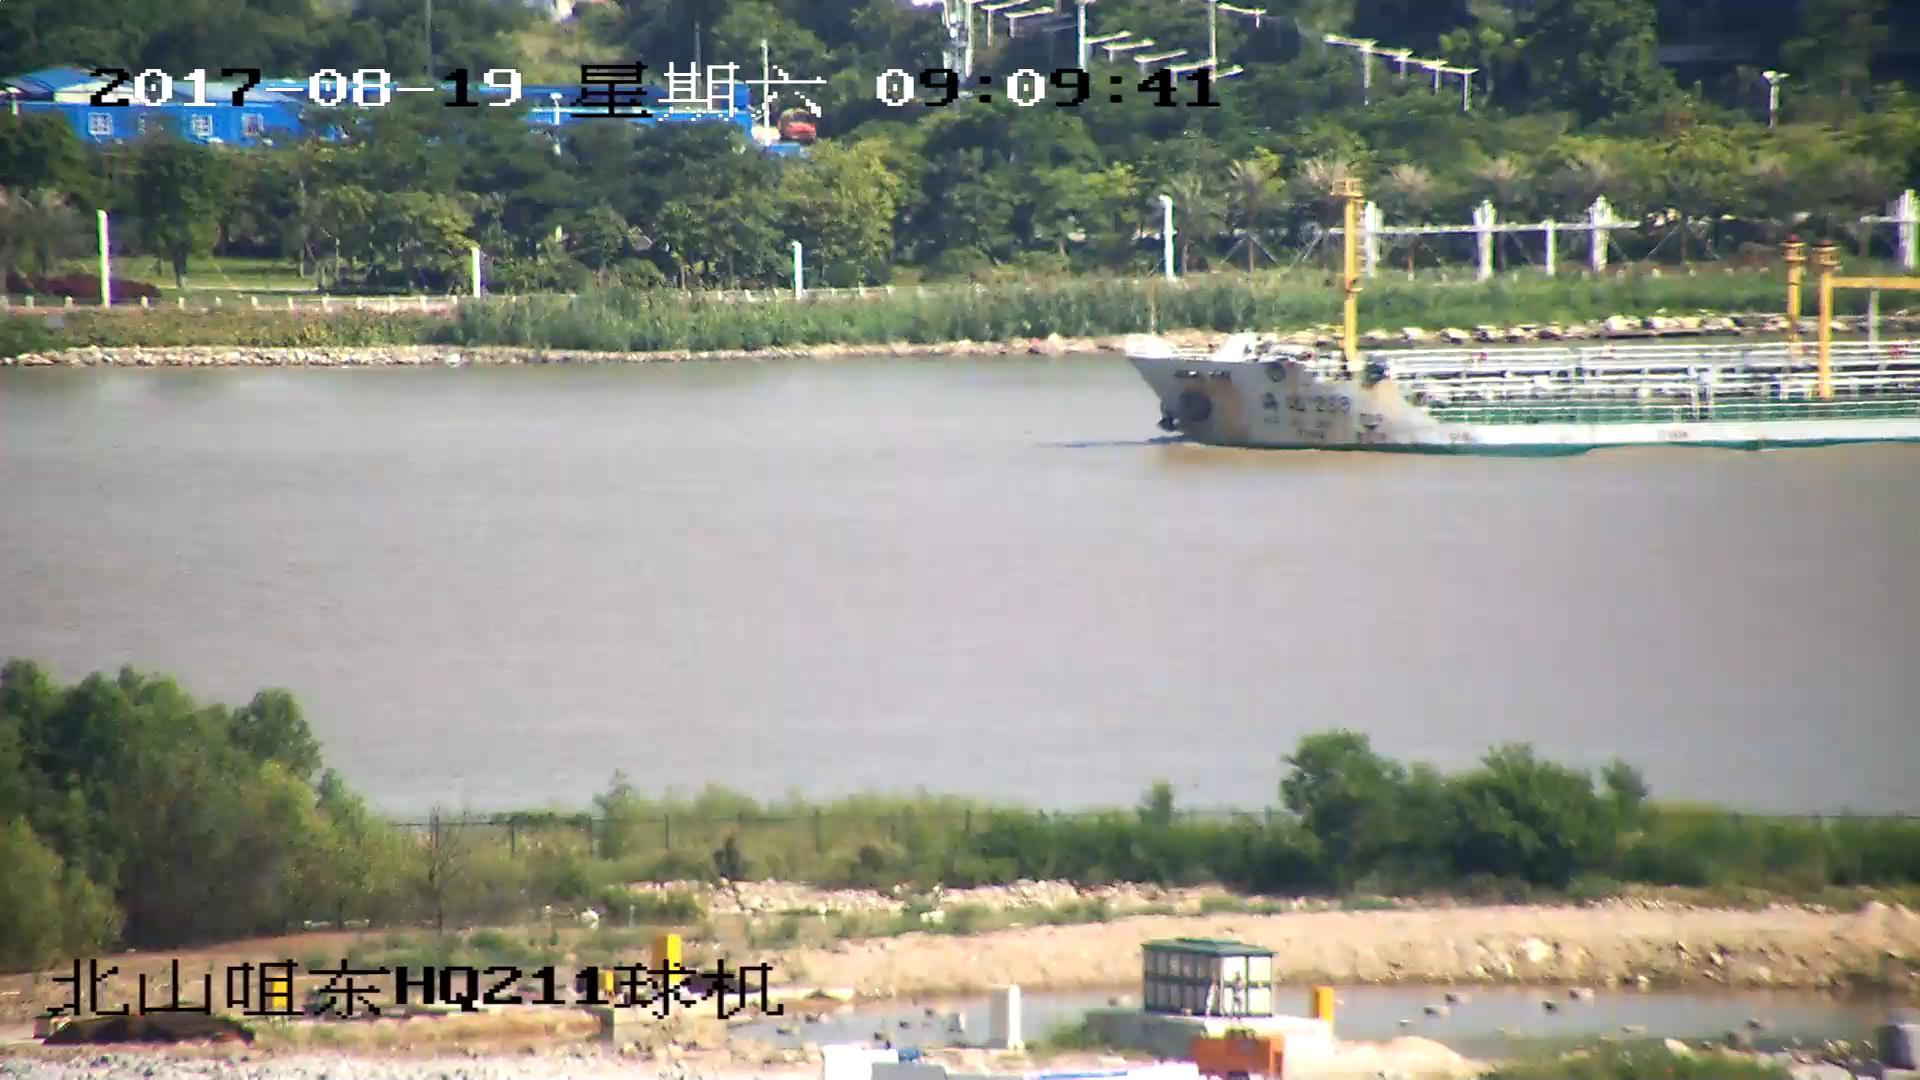Ship: (1138, 207, 1920, 448)
